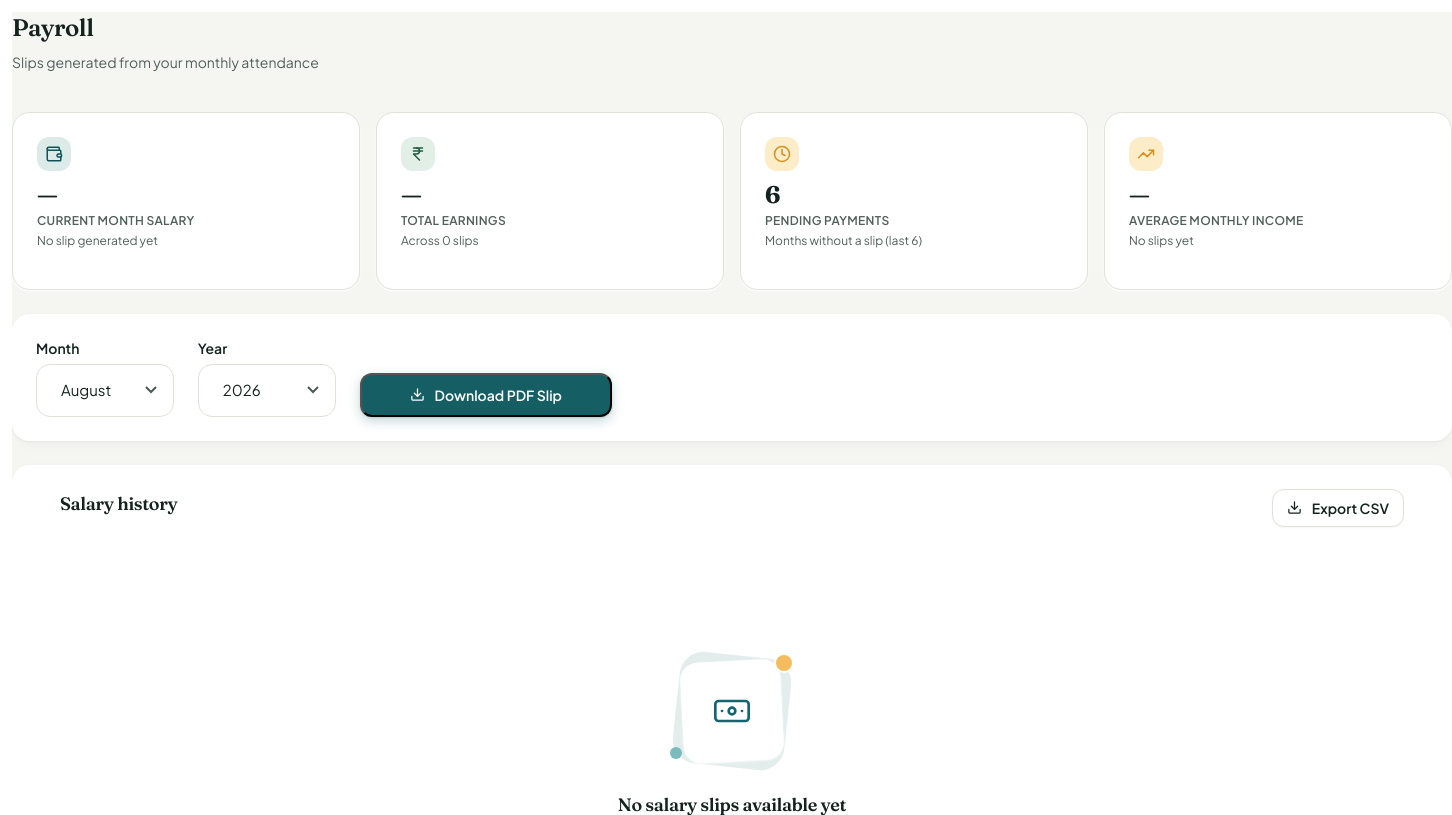
Test case: MySalarySlips › downloads the slip for the logged-in worker as a blob for the default month/year
This screenshot has width=1452, height=815.
Click the button with test id "download-salary-slip" at (486, 394), box [360,372,612,416]
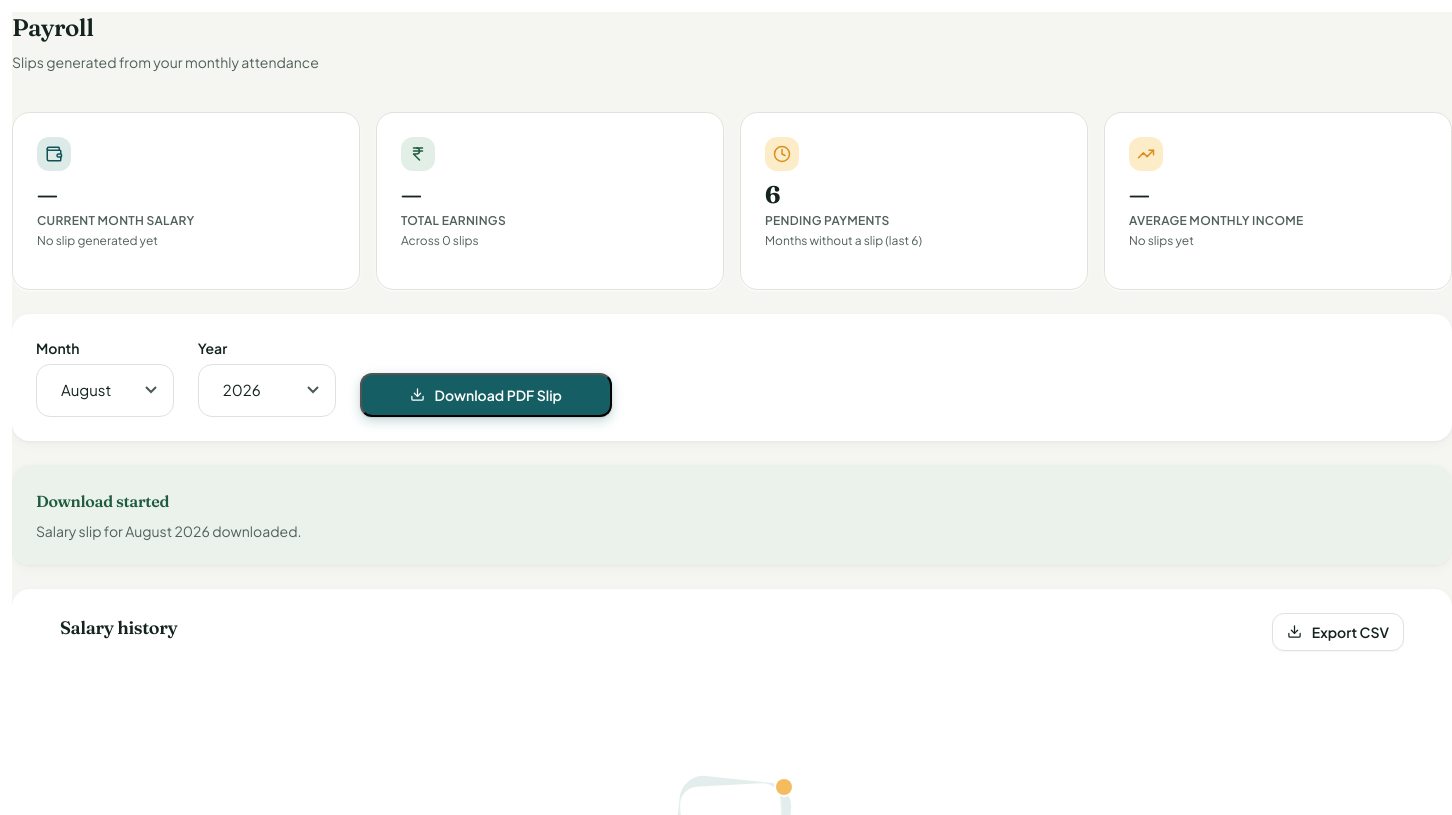
Expected: the text "Salary slip for August 2026 downloaded." is shown, [36,522,302,540]
